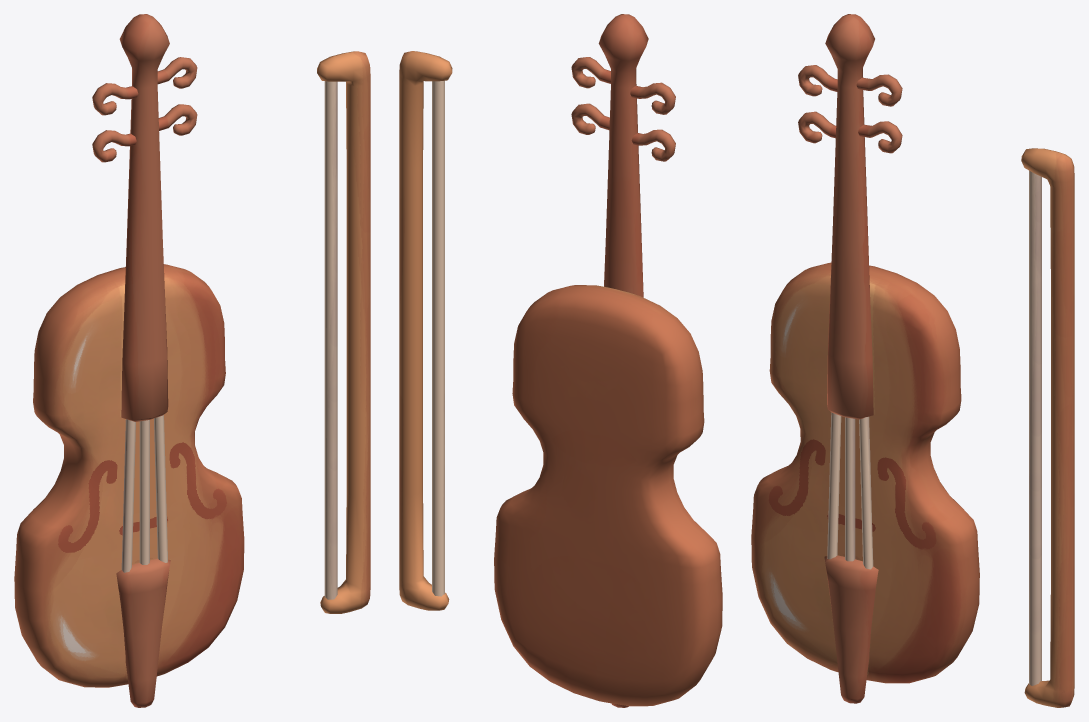
Rendered from Violin_01.fbx.
3 views of the same model, side by side, from view 1: azimuth 30°, elevation 25°; view 2: azimuth 150°, elevation 25°; view 3: azimuth 330°, elevation 25° (orthographic).
Parts seen in each view (by area): view 1: geo_violin; view 2: geo_violin; view 3: geo_violin.
Part boxes in pixels (x1,y1,x2,y2): geo_violin: [14, 14, 370, 707]; geo_violin: [399, 14, 722, 707]; geo_violin: [751, 14, 1074, 707].
Bounding box in the file's own units: 81.23 × 161 × 17.95.
Materials: 1 (1 with a texture image).
